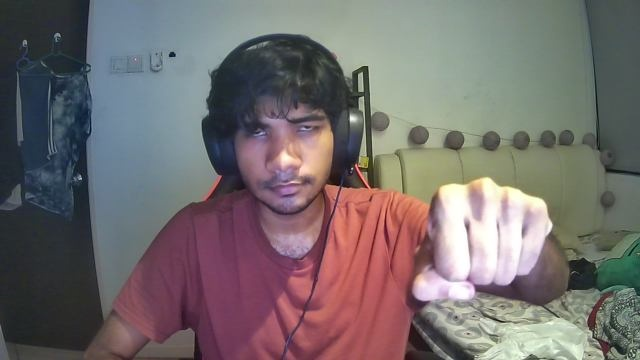Yes: (405, 172, 557, 311)
